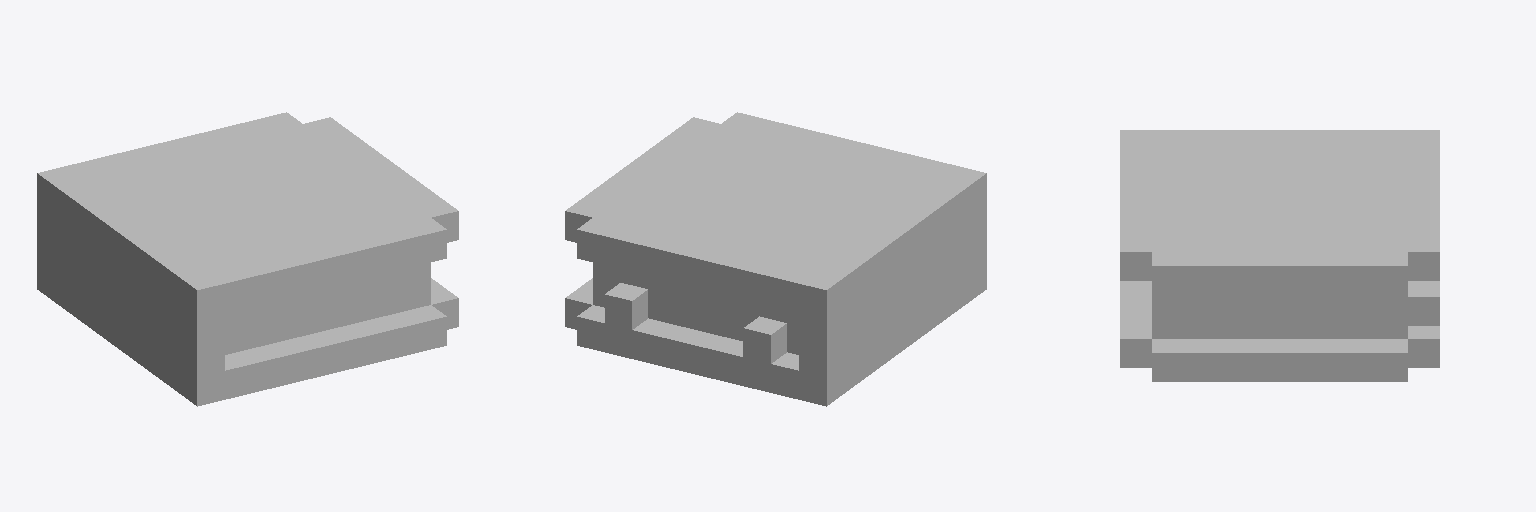
Rendered from book.obj.
The picture shows the model from 3 angles: view 1: azimuth 30°, elevation 25°; view 2: azimuth 150°, elevation 25°; view 3: azimuth 270°, elevation 25°; orthographic projection.
Parts seen in each view (by area): view 1: object 1; view 2: object 1; view 3: object 1.
Part boxes in pixels (bbox=[...]): object 1: bbox=[37, 112, 458, 406]; object 1: bbox=[565, 112, 986, 406]; object 1: bbox=[1120, 130, 1439, 381].
Size of the model in its own units: 1 by 0.4 by 1.